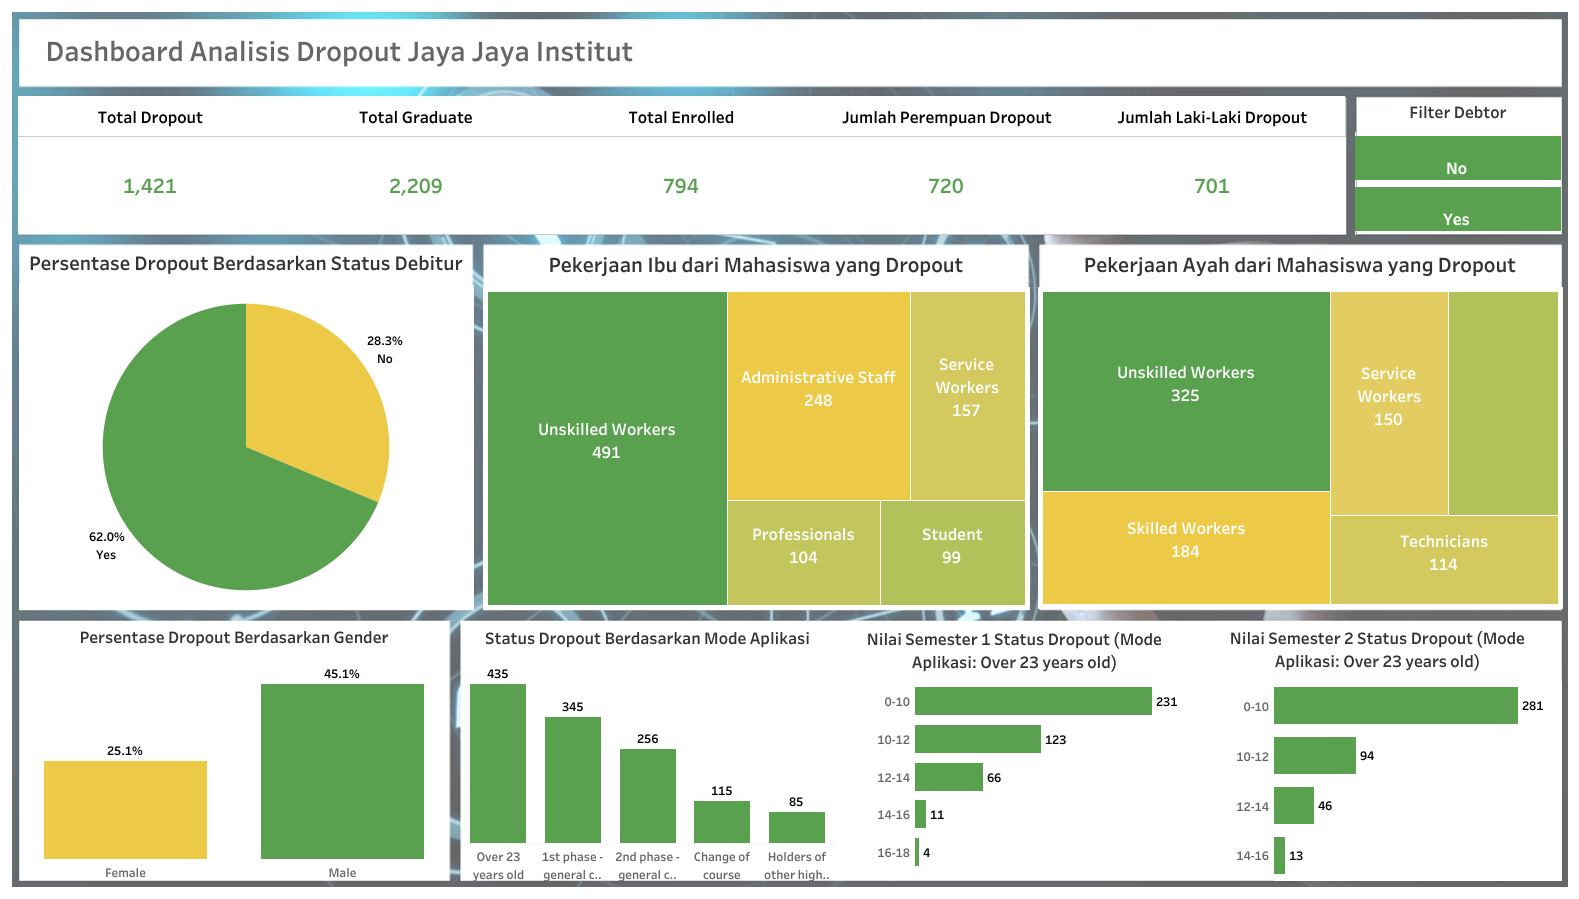

The dashboard page shown, as its layout file describes it:
{"tool":"tableau","page":{"name":"Dropout Analytics Dashboard","canvas":[1580,900],"ordinal":0},"visuals":[{"type":"image","param":"D:/DICODING DATA SCIENTIST/PENERAPAN DATA SCIENTIST/Submission Akhir/Dropout bac","box":[8,8,1564,884]},{"type":"text","box":[27,22,625,56]},{"type":"worksheet","title":"Filter Debtor","mark":"Automatic","rows":["Debtor"],"cols":["Calculation_762515737834917892"],"box":[1355,94,206,141]},{"type":"worksheet","title":"KPI","mark":"Automatic","box":[18,96,1328,139]},{"type":"worksheet","title":"Persentase Dropout Berdasarkan Status Debitur","mark":"Pie","box":[19,243,454,366]},{"type":"worksheet","title":"Pekerjaan Ibu dari Mahasiswa yang Dropout","mark":"Automatic","box":[483,244,546,366]},{"type":"worksheet","title":"Pekerjaan Ayah dari Mahasiswa yang Dropout","mark":"Automatic","box":[1038,244,524,365]},{"type":"worksheet","title":"Persentase Dropout Berdasarkan Gender","mark":"Bar","rows":["Calculation_576179302864637954"],"cols":["Gender"],"box":[17,619,434,262]},{"type":"worksheet","title":"Status Dropout Berdasarkan Mode Aplikasi","mark":"Automatic","rows":["Calculation_576179302862106624"],"cols":["Application_mode"],"box":[461,620,373,263]},{"type":"worksheet","title":"Nilai Semester 2 Status Dropout (Mode Aplikasi: Over 23 years old)","mark":"Automatic","rows":["Grade_Bin_sem_2st"],"cols":["Calculation_576179302862106624"],"box":[1194,620,367,260]},{"type":"worksheet","title":"Nilai Semester 1 Status Dropout (Mode Aplikasi: Over 23 years old)","mark":"Bar","rows":["Grade_Bin_sem_1st"],"cols":["Calculation_576179302862106624"],"box":[835,621,359,260]}]}

Visuals, with their boxes in screenshot pixels (x1, y1, x2, y2), scaled from the page's 1580x900 canvas onto the 1579x899 screenshot:
image: box=[8, 8, 1571, 891]
text: box=[27, 22, 652, 78]
"Filter Debtor" worksheet: box=[1354, 94, 1560, 235]
"KPI" worksheet: box=[18, 96, 1345, 235]
"Persentase Dropout Berdasarkan Status Debitur" worksheet (Pie marks): box=[19, 243, 473, 608]
"Pekerjaan Ibu dari Mahasiswa yang Dropout" worksheet: box=[483, 244, 1028, 609]
"Pekerjaan Ayah dari Mahasiswa yang Dropout" worksheet: box=[1037, 244, 1561, 608]
"Persentase Dropout Berdasarkan Gender" worksheet (Bar marks): box=[17, 618, 451, 880]
"Status Dropout Berdasarkan Mode Aplikasi" worksheet: box=[461, 619, 833, 882]
"Nilai Semester 2 Status Dropout (Mode Aplikasi: Over 23 years old)" worksheet: box=[1193, 619, 1560, 879]
"Nilai Semester 1 Status Dropout (Mode Aplikasi: Over 23 years old)" worksheet (Bar marks): box=[834, 620, 1193, 880]
